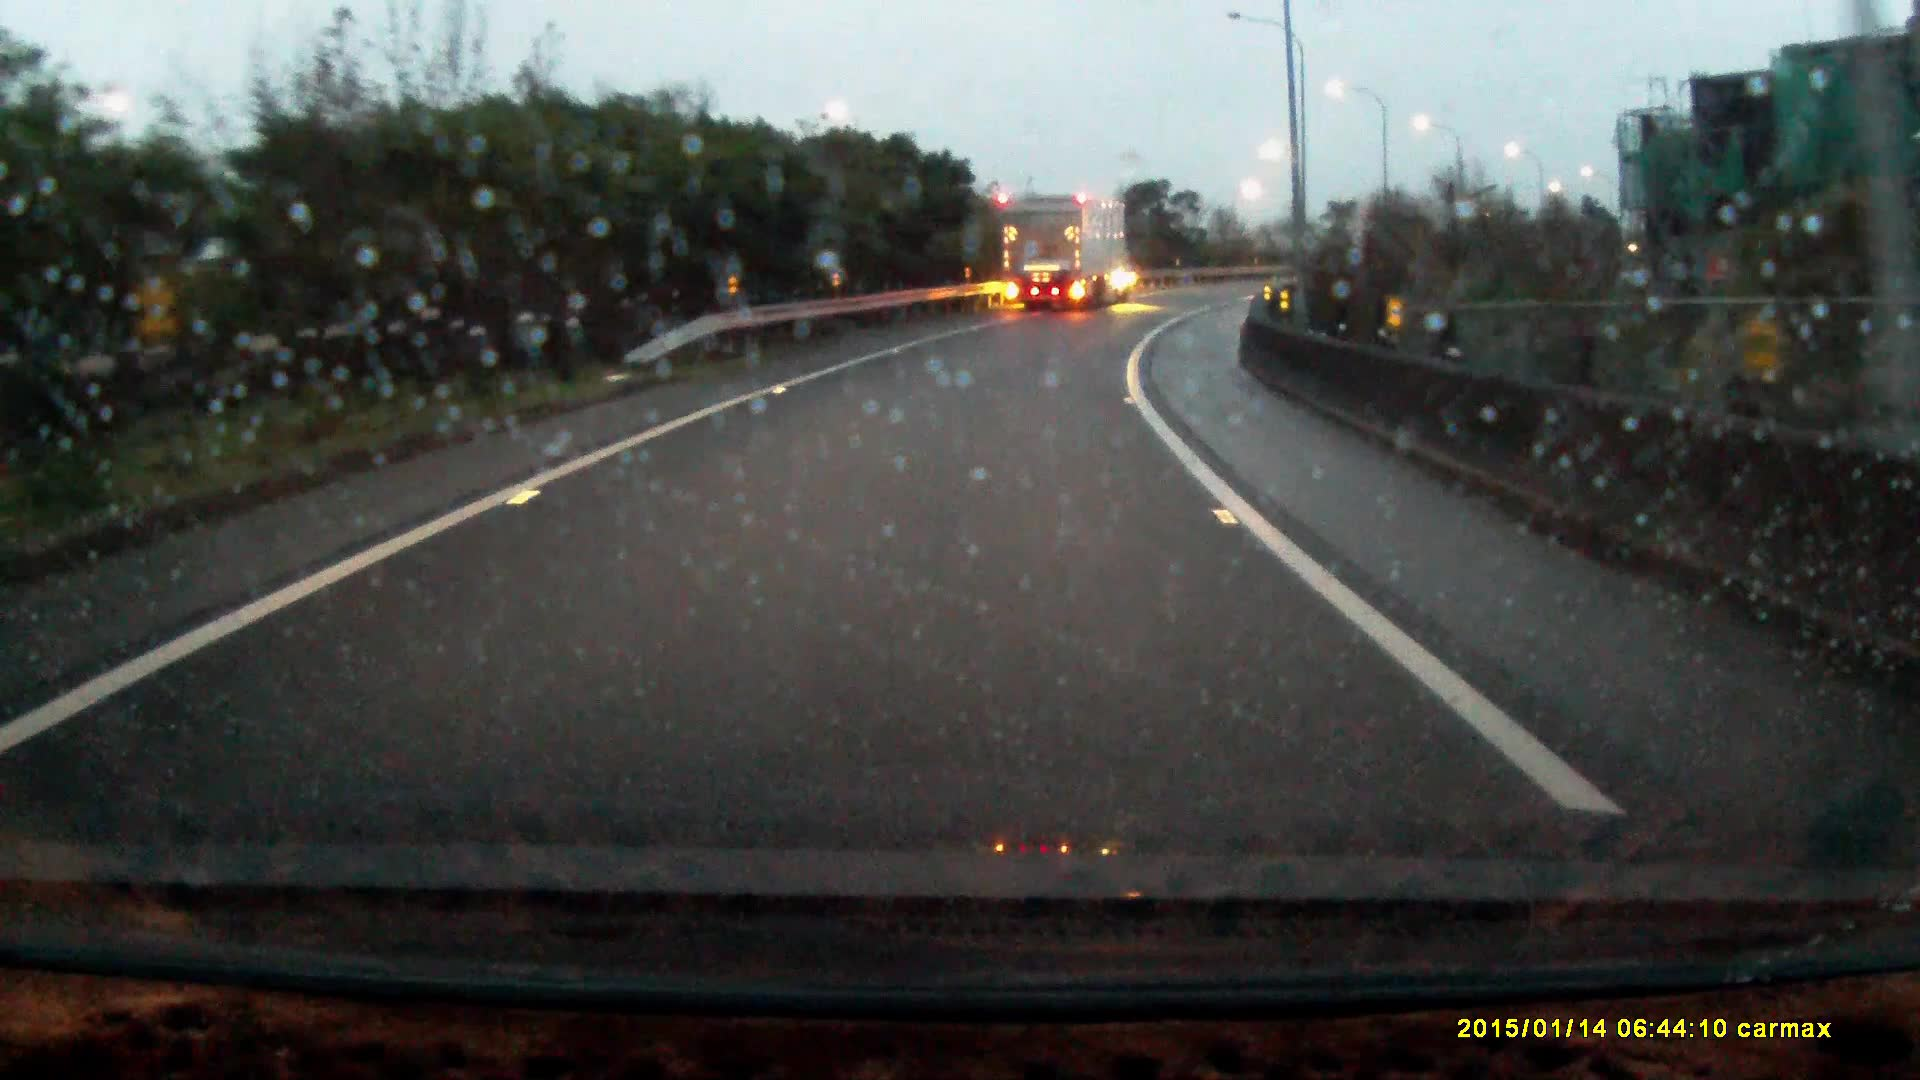vehicle: (1000, 189, 1137, 307)
